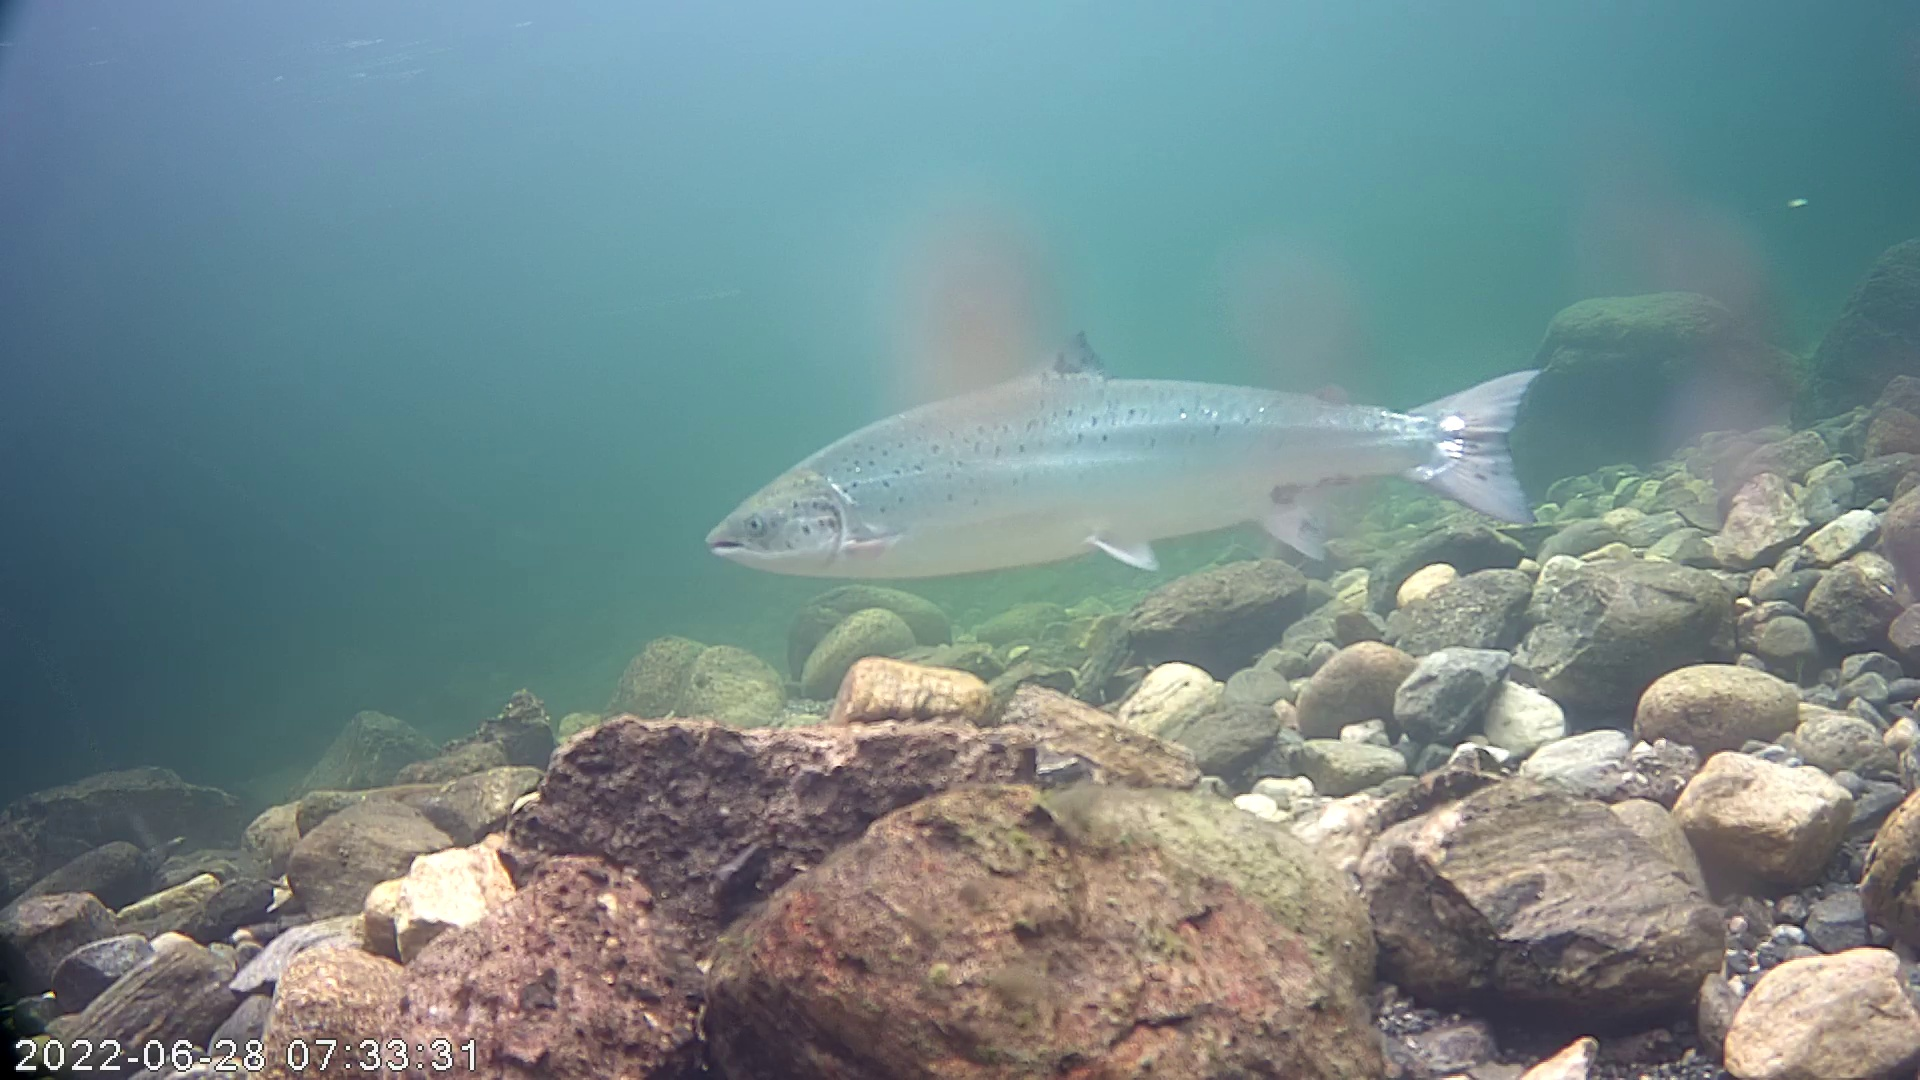salmon: (699, 215, 1596, 621)
